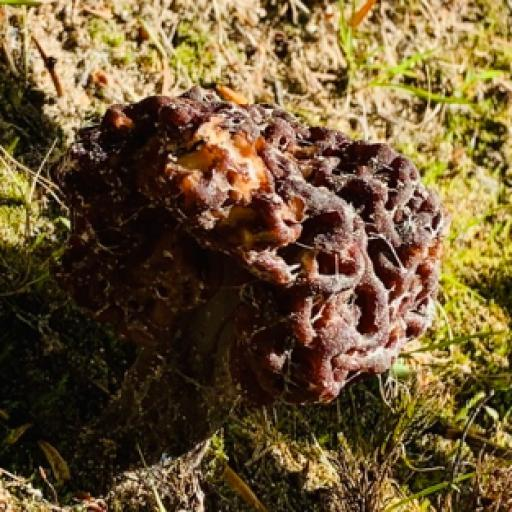mushroom: (44, 85, 453, 411)
